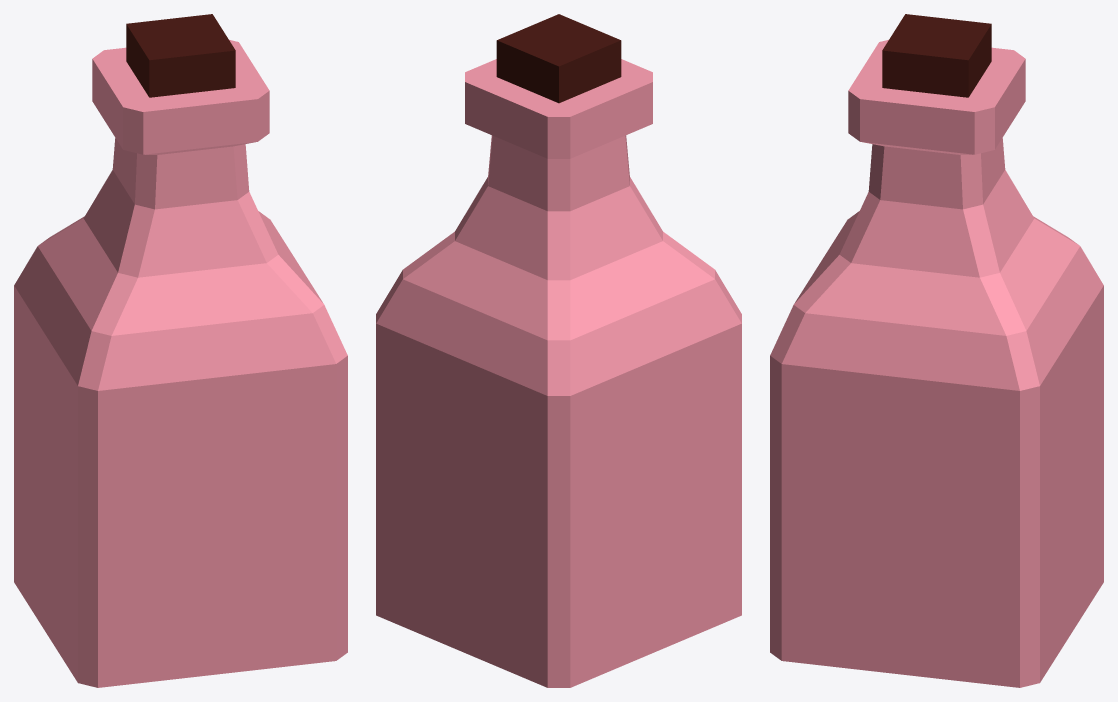
Rendered from Bottle_1.fbx.
3 renders of one model, left to right at view 1: azimuth 30°, elevation 25°; view 2: azimuth 150°, elevation 25°; view 3: azimuth 270°, elevation 25°, orthographic.
Visible parts, largest first — view 1: Bottle #1; view 2: Bottle #1; view 3: Bottle #1.
Boxes of the visible parts, left/top/right/bottom form: Bottle #1: left=14, top=14, right=347, bottom=687; Bottle #1: left=376, top=14, right=741, bottom=687; Bottle #1: left=770, top=14, right=1103, bottom=687.
Bounding box in the file's own units: 18.63 × 35.75 × 18.63.
